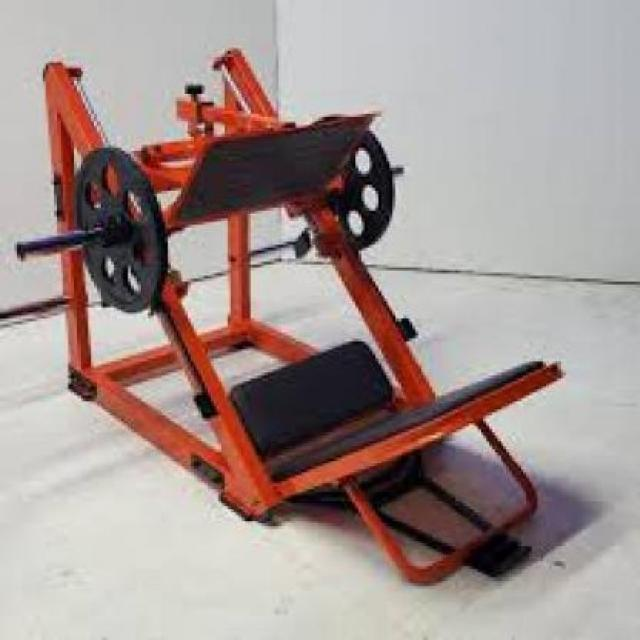leg press: (9, 35, 617, 591)
